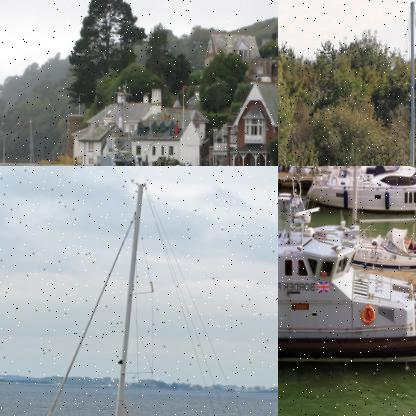Patrol Boat: (278, 166, 415, 367), (40, 76, 277, 165)
Sails Boat: (20, 176, 277, 415), (357, 0, 415, 165)
